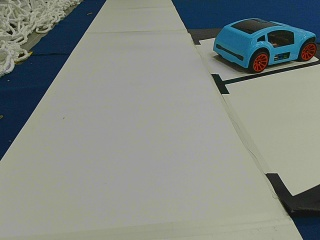car: (213, 20, 316, 71)
